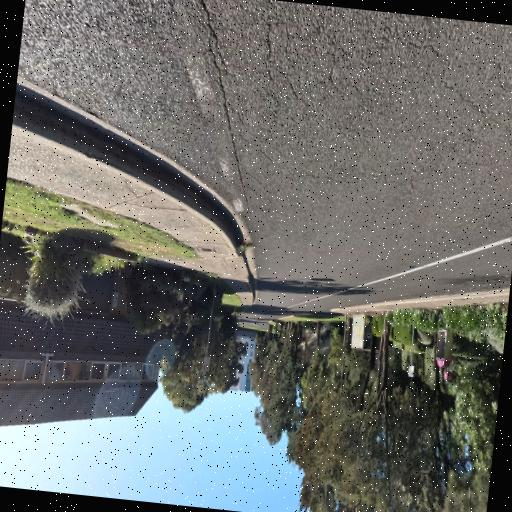kerb_cut: (227, 254, 254, 276)
